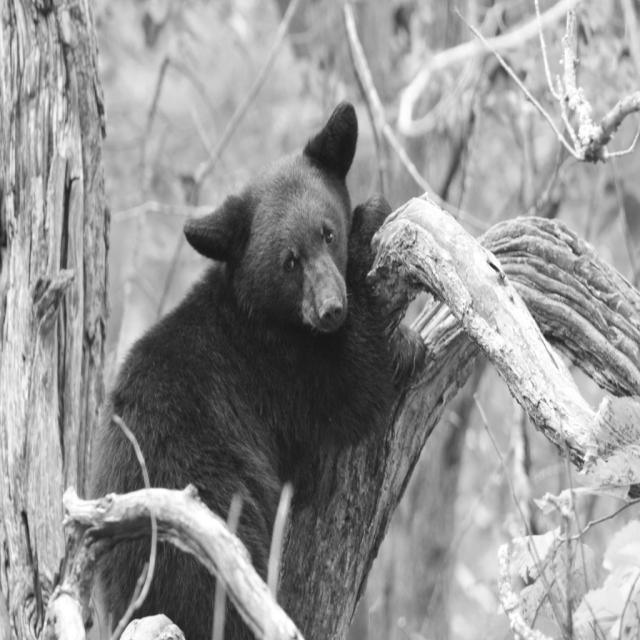Bear: (87, 106, 427, 640)
